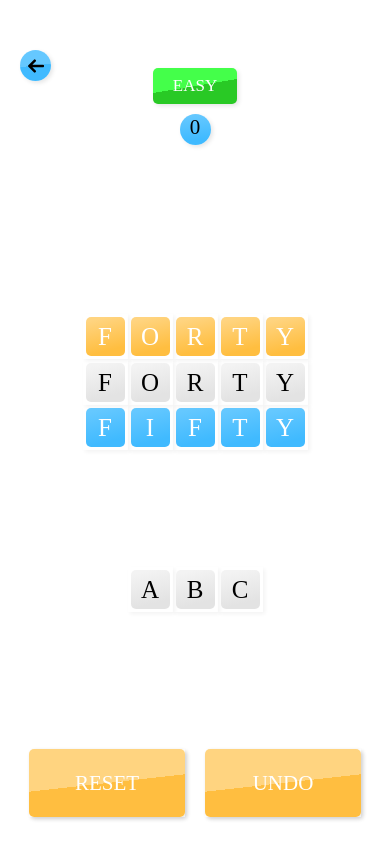
Test: <Game /> › exit modal open
Click the element with test id "circle-button".
click(36, 66)  # box x1=20 y1=50 x2=51 y2=81
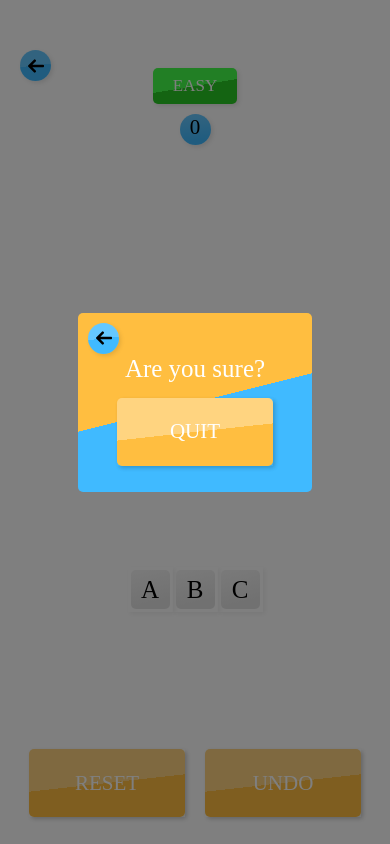
Now the element with test id "exit" is shown, box x1=78 y1=312 x2=312 y2=492
